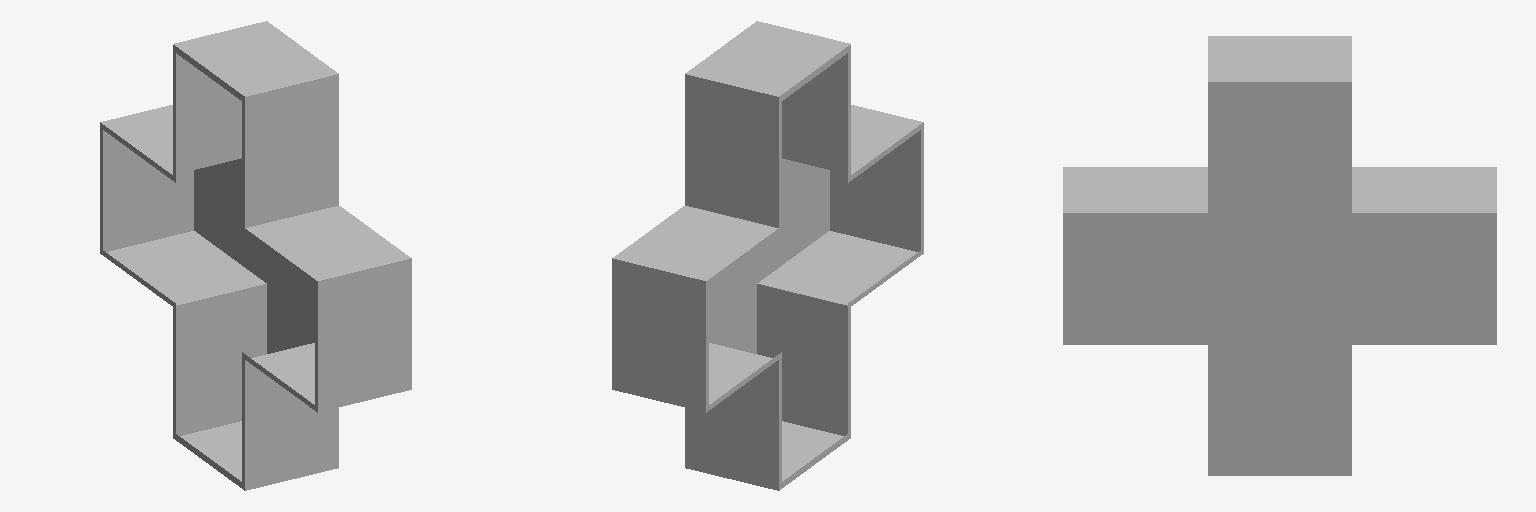
File: apotheke-cross2.obj
3 renders of one model, left to right at view 1: azimuth 30°, elevation 25°; view 2: azimuth 150°, elevation 25°; view 3: azimuth 270°, elevation 25°, orthographic.
Parts seen in each view (by area): view 1: Cross; view 2: Cross; view 3: Cross.
Boxes of the visible parts, x1=… form: Cross: x1=100, y1=21, x2=411, y2=490; Cross: x1=612, y1=21, x2=923, y2=490; Cross: x1=1063, y1=36, x2=1496, y2=475.
Bounding box in the file's own units: 0.15 × 0.6 × 0.6.